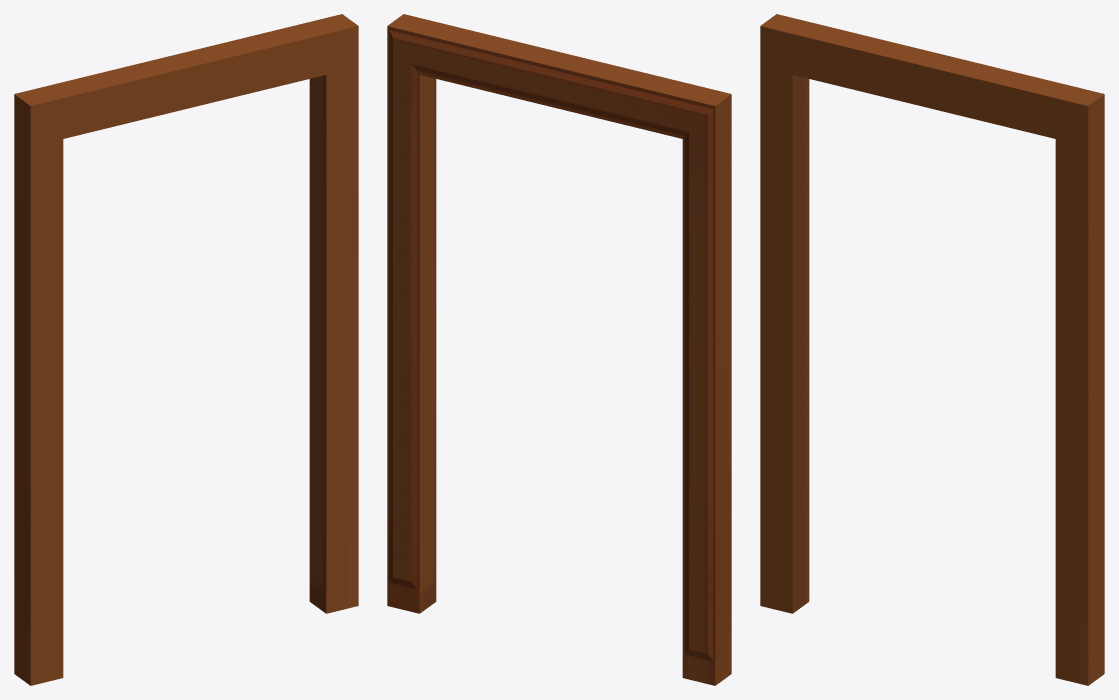
Rendered from Doorframe.fbx.
3 renders of one model, left to right at view 1: azimuth 30°, elevation 25°; view 2: azimuth 150°, elevation 25°; view 3: azimuth 330°, elevation 25°, orthographic.
Visible parts, largest first — view 1: Cube.043_Cube.001; view 2: Cube.043_Cube.001; view 3: Cube.043_Cube.001.
Part boxes in pixels (box(x1,y1,x2,y2)): Cube.043_Cube.001: box(14, 14, 358, 685); Cube.043_Cube.001: box(387, 14, 731, 685); Cube.043_Cube.001: box(760, 14, 1104, 685).
Size of the model in its own units: 384 by 648 by 35.89.
